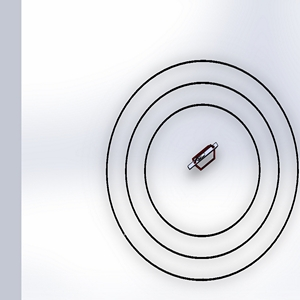circle: (102, 54, 298, 287)
submarine: (182, 137, 227, 183)
